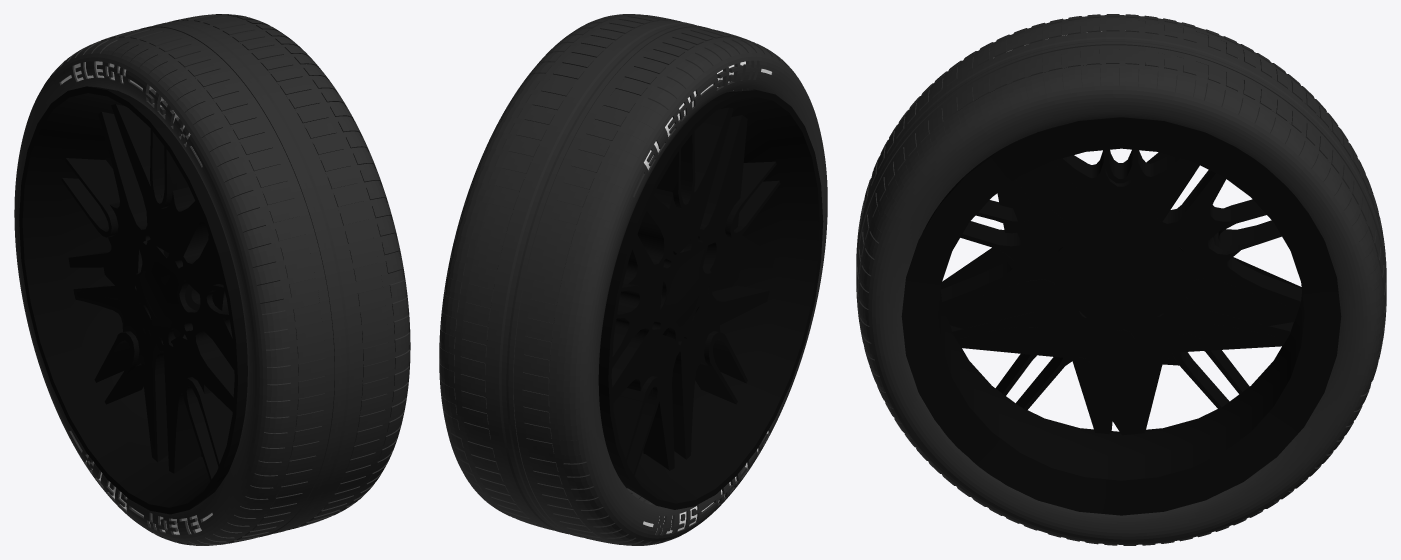
The model's file is MainCarWheelRight.fbx.
3 views of the same model, side by side, from view 1: azimuth 30°, elevation 25°; view 2: azimuth 150°, elevation 25°; view 3: azimuth 270°, elevation 25° (orthographic). The views are drawn at different scales.
Parts seen in each view (by area): view 1: FL, FL.003, FL.001; view 2: FL, FL.003, FL.001; view 3: FL.003, FL.
Boxes of the visible parts, bbox=[...] form: FL: bbox=[14, 14, 410, 545]; FL.003: bbox=[31, 62, 363, 502]; FL.001: bbox=[19, 86, 247, 514]; FL: bbox=[439, 14, 827, 545]; FL.003: bbox=[485, 98, 811, 498]; FL.001: bbox=[598, 90, 823, 509]; FL.003: bbox=[901, 117, 1341, 515]; FL: bbox=[856, 14, 1386, 545].
Size of the model in its own units: 25.47 by 72.81 by 72.81.
